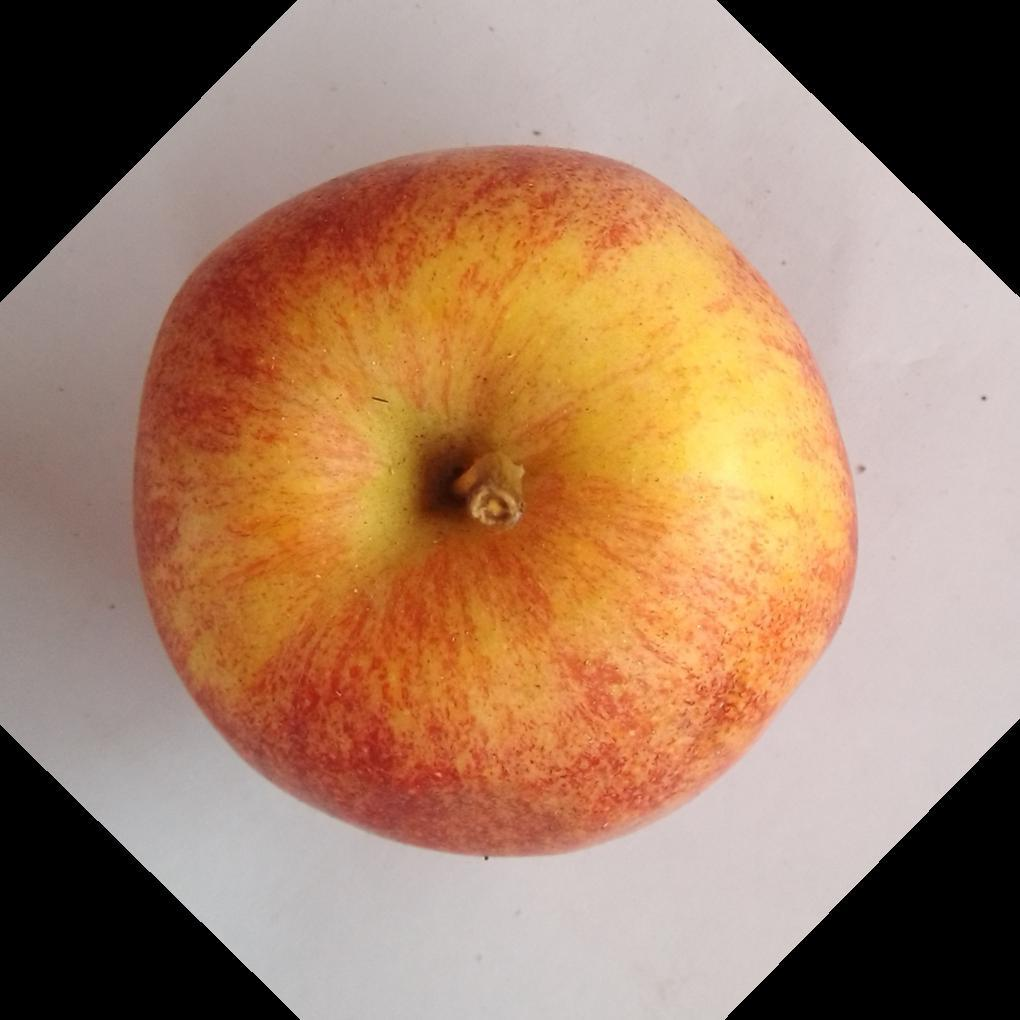FreshGuava: (130, 145, 860, 864)
